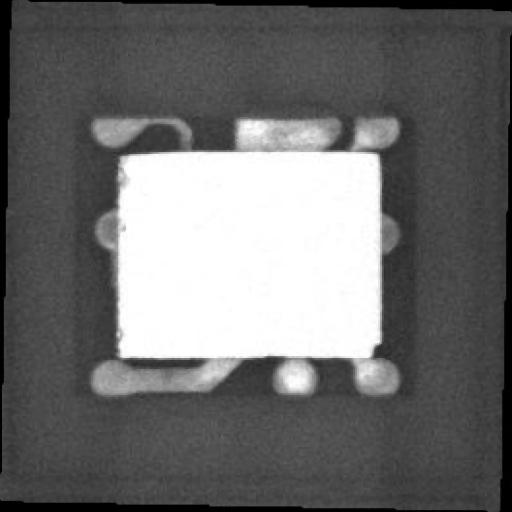DIE_INK: (111, 164, 128, 188)
